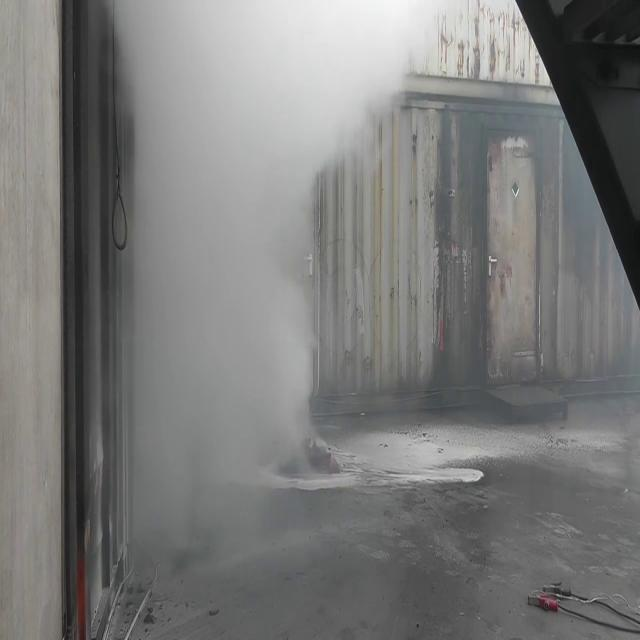Smoke: (108, 3, 328, 633)
